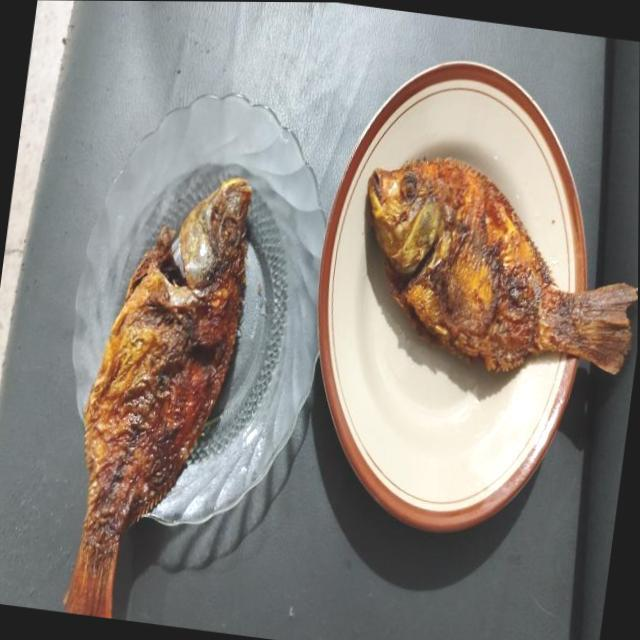ikan_mujair: (63, 177, 251, 618), (366, 156, 638, 374)
